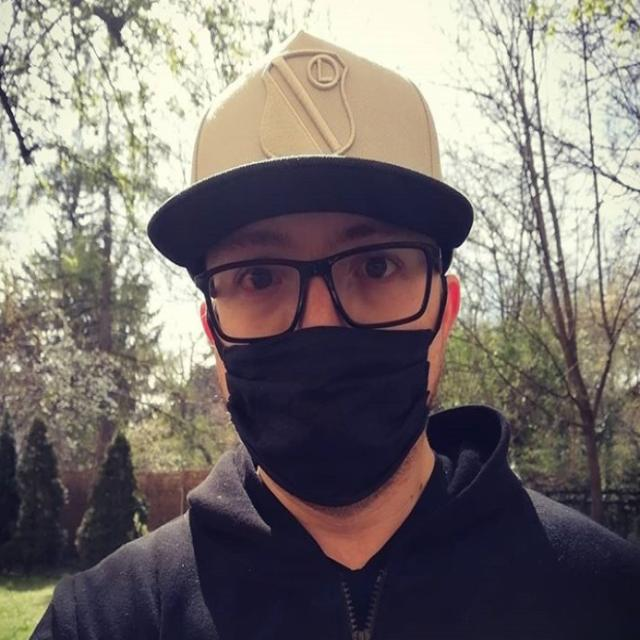hat: (151, 34, 474, 265)
